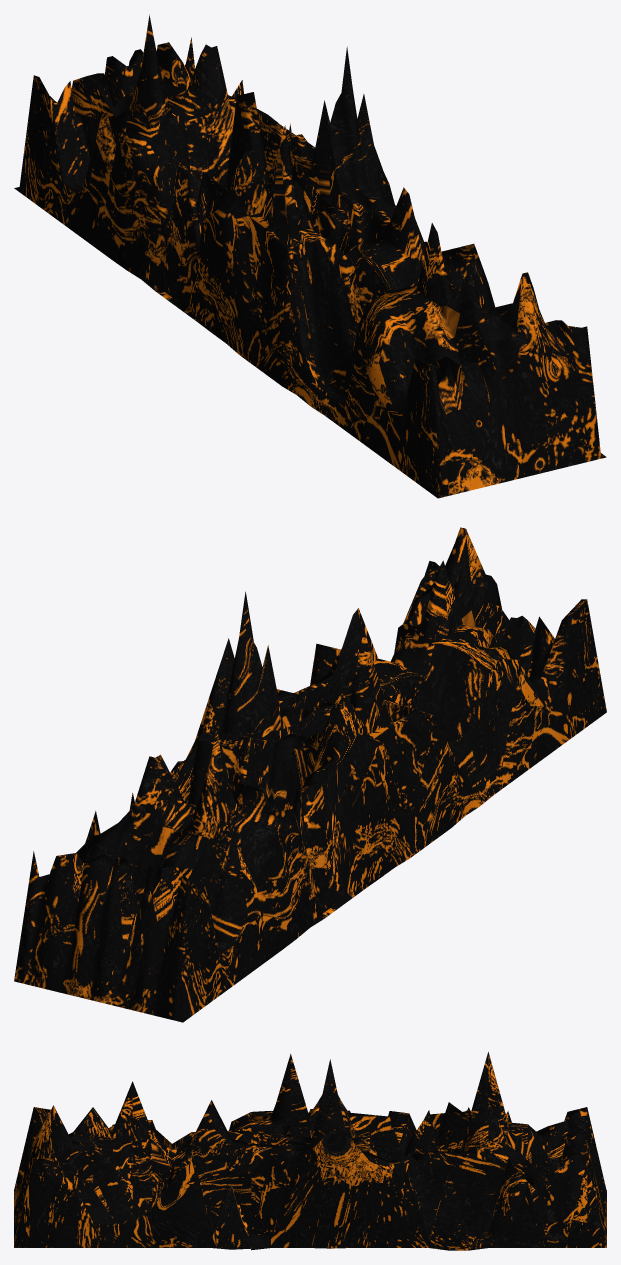
Rendered from Main wall.fbx.
3 views of the same model, one above another, from view 1: azimuth 30°, elevation 25°; view 2: azimuth 150°, elevation 25°; view 3: azimuth 270°, elevation 25° (orthographic). The views are drawn at different scales.
Parts seen in each view (by area): view 1: Main_Walls1; view 2: Main_Walls1; view 3: Main_Walls1.
Part boxes in pixels (left/top/right/bottom): Main_Walls1: left=14, top=14, right=606, bottom=498; Main_Walls1: left=14, top=527, right=606, bottom=1022; Main_Walls1: left=14, top=1052, right=606, bottom=1250.
Bounding box in the file's own units: 1148 × 1707 × 4989.
1 material, 1 textured.
